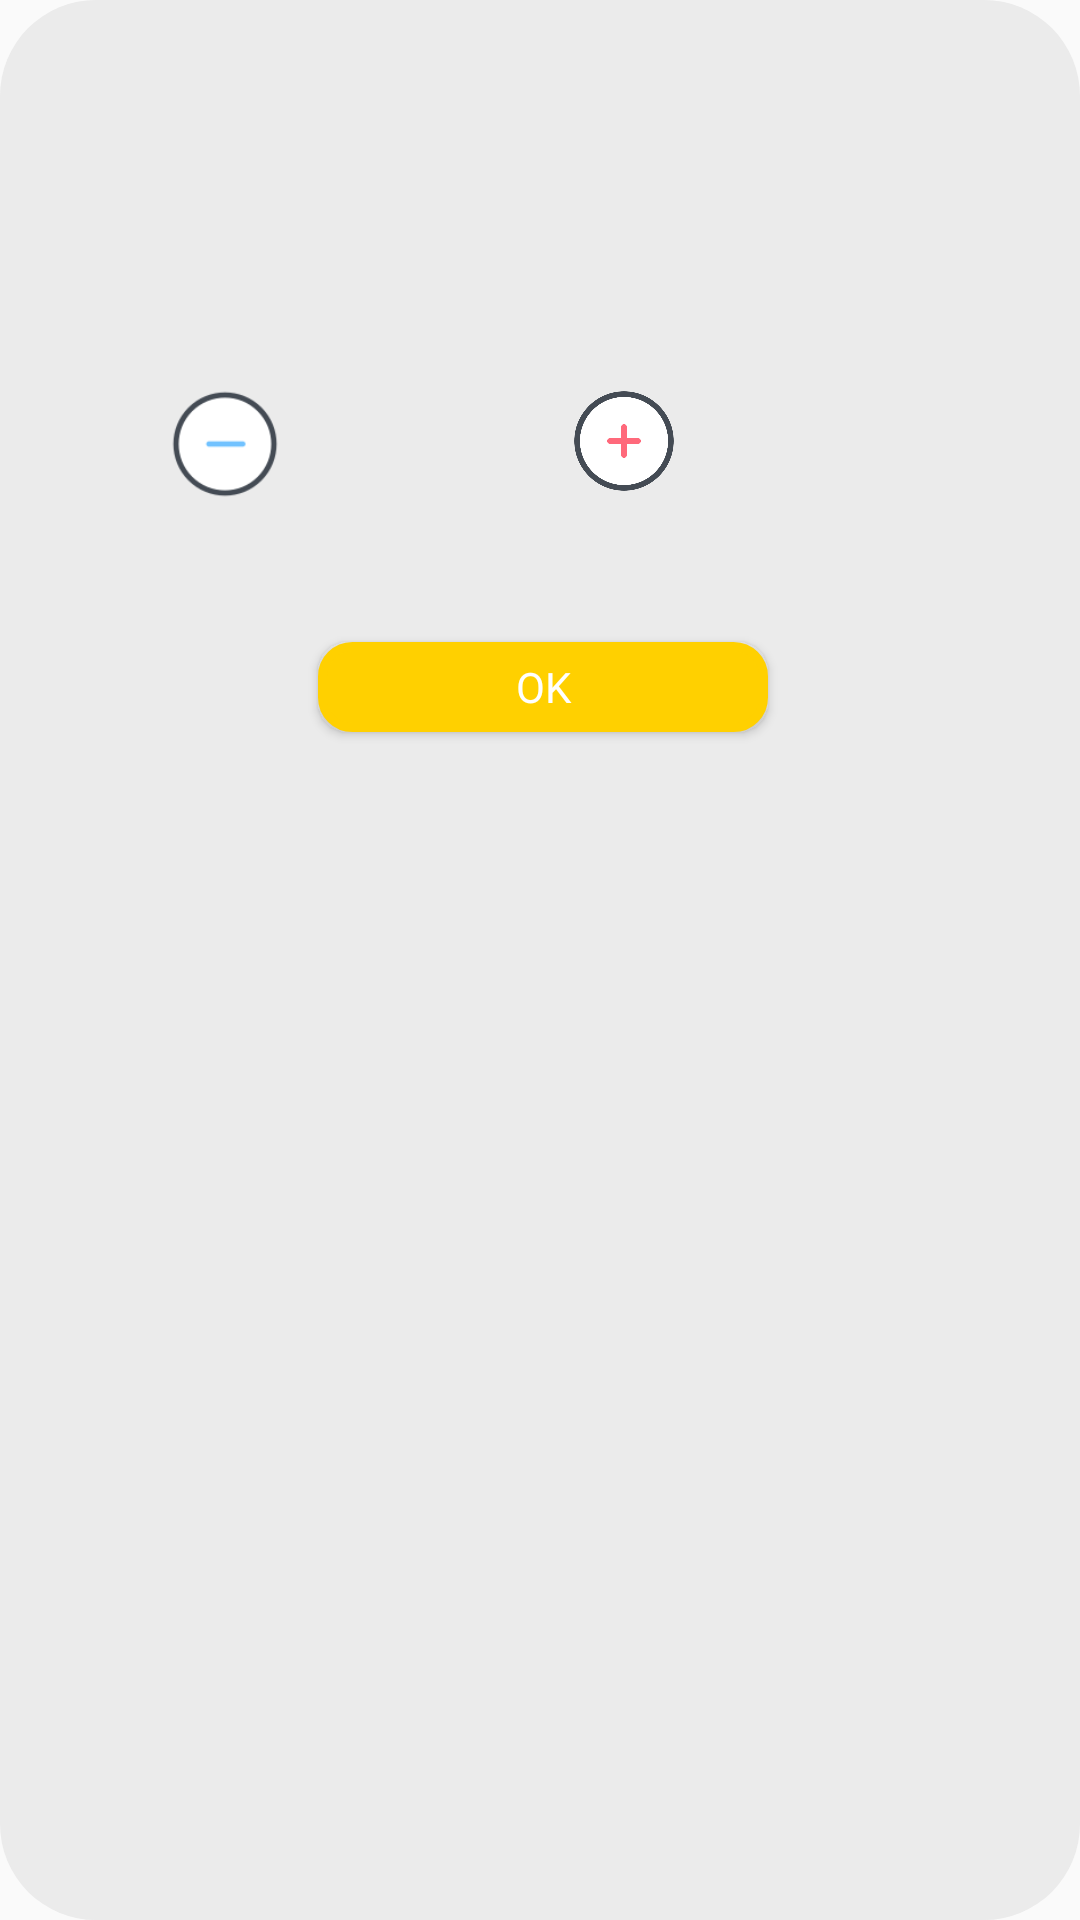

Named icons in this screenshot (1080 × 1920) and their centers, point (x, y):
add: point (624, 441)
remove: point (225, 444)
